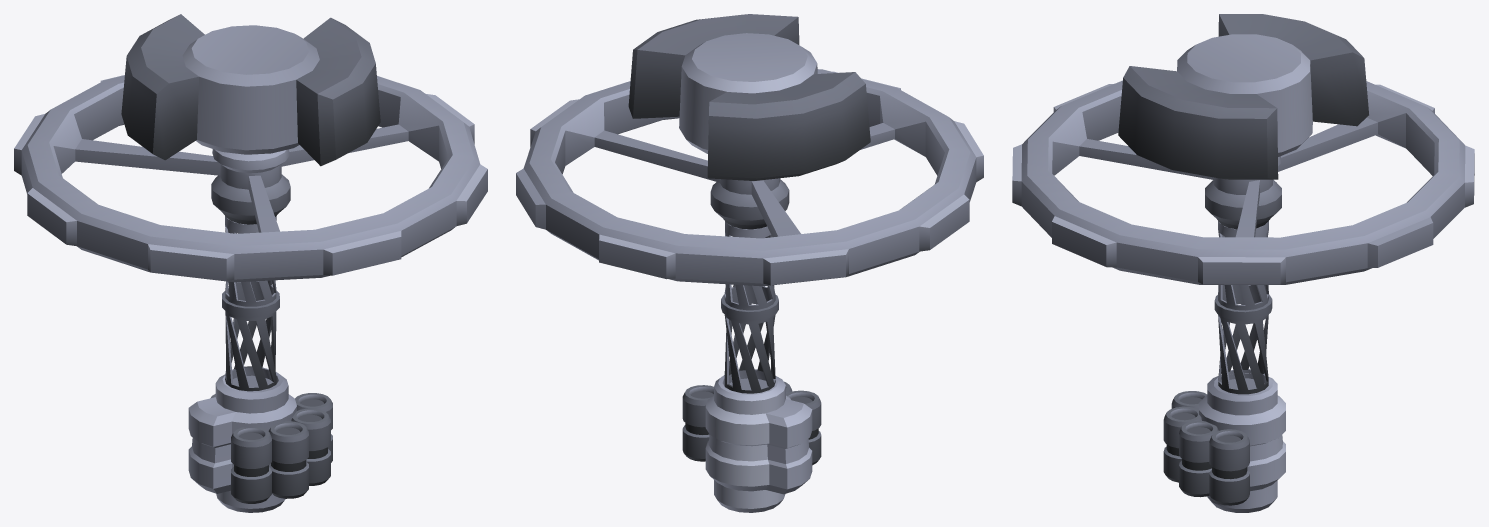
Rendered from SpacePart_Cylinder_011.fbx.
The picture shows the model from 3 angles, left to right: view 1: azimuth 30°, elevation 25°; view 2: azimuth 150°, elevation 25°; view 3: azimuth 270°, elevation 25°; orthographic projection.
Visible parts, largest first — view 1: Cylinder.011; view 2: Cylinder.011; view 3: Cylinder.011.
Part boxes in pixels (x1,y1,x2,y2): Cylinder.011: (14, 14, 487, 512); Cylinder.011: (516, 14, 983, 512); Cylinder.011: (1012, 14, 1474, 512).
Size of the model in its own units: 25690 by 27073 by 25690.
